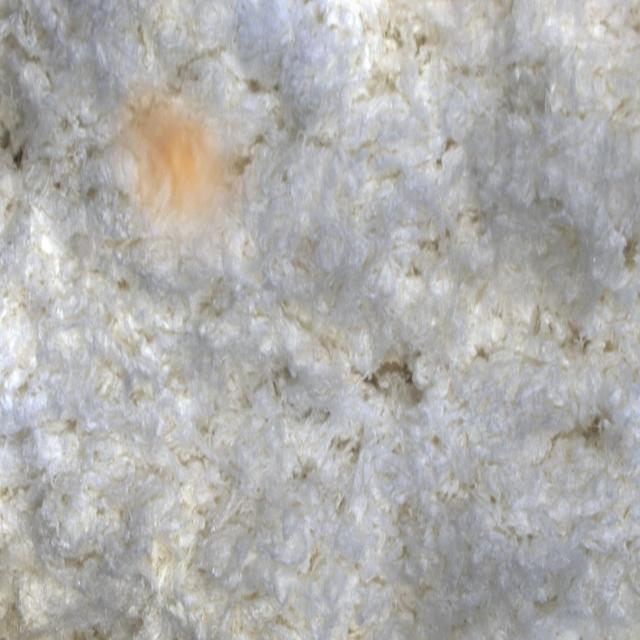dust: (91, 79, 260, 297)
